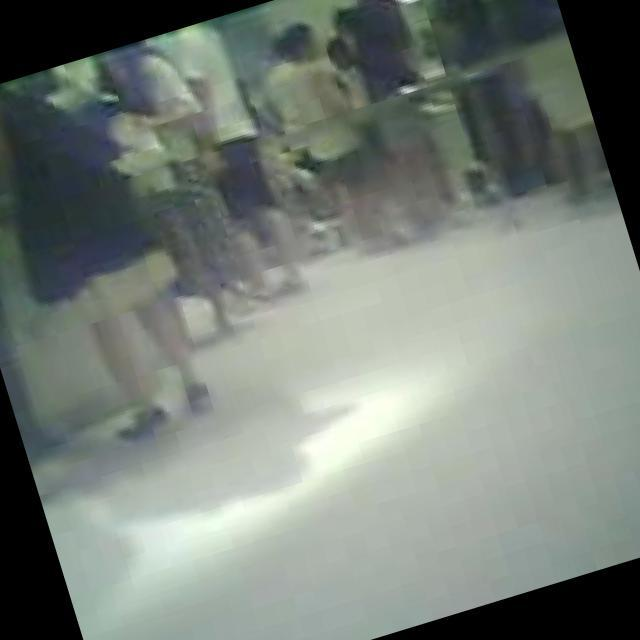person: (0, 50, 218, 446), (110, 31, 260, 340), (165, 14, 309, 303), (268, 6, 411, 260), (338, 0, 470, 235), (482, 0, 614, 205), (405, 0, 538, 199)
